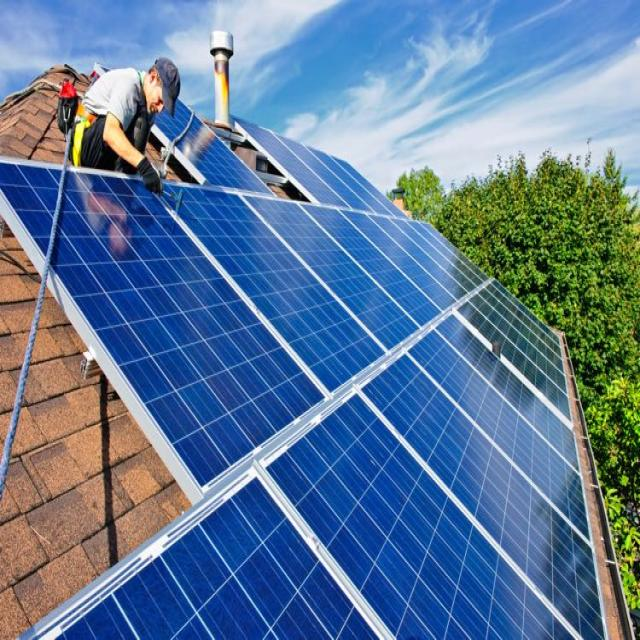clean-solar-panel: (26, 101, 631, 638)
